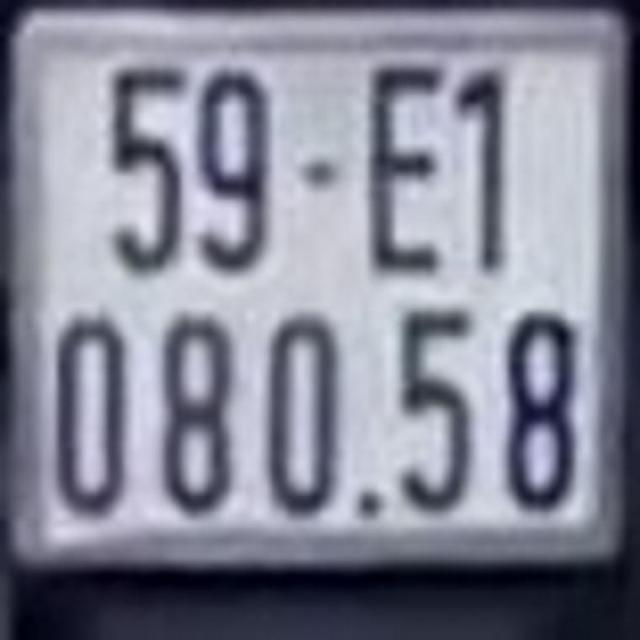0: (50, 307, 126, 519), (261, 302, 335, 516)
1: (449, 66, 517, 272)
5: (106, 60, 188, 272), (395, 300, 473, 516)
8: (156, 308, 234, 516), (500, 299, 574, 512)
9: (191, 63, 269, 274)
E: (364, 63, 446, 274)
